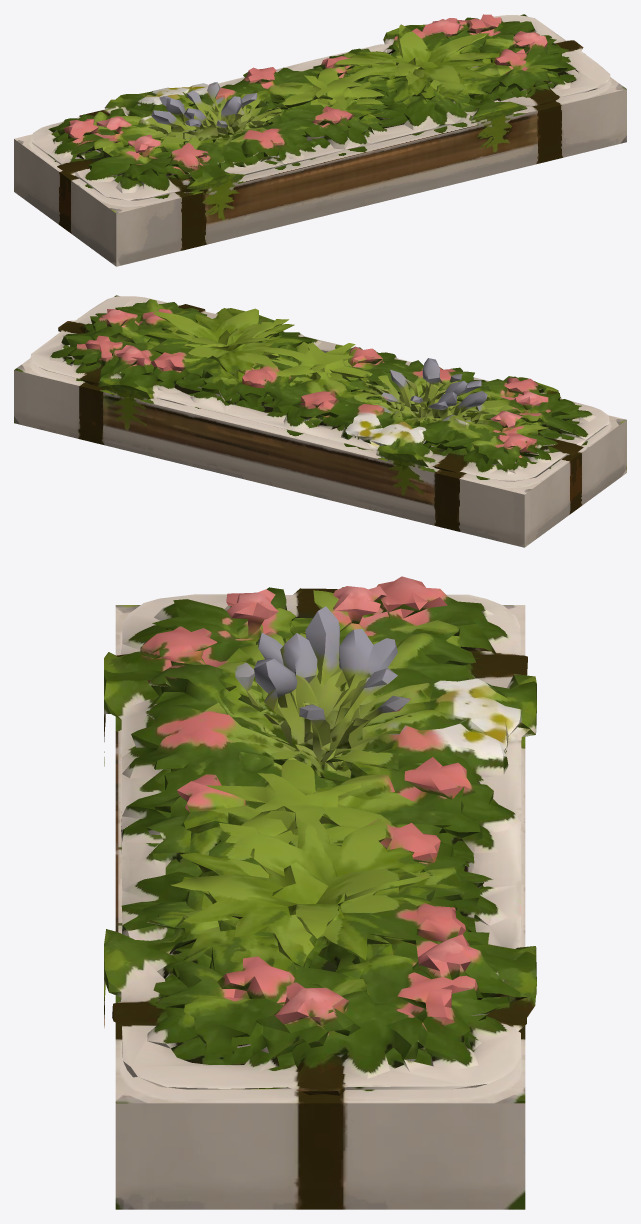
The model's file is flowerbed.glb.
The picture shows the model from 3 angles, top to bottom: view 1: azimuth 30°, elevation 25°; view 2: azimuth 150°, elevation 25°; view 3: azimuth 270°, elevation 25°; orthographic projection. The views are drawn at different scales.
Visible parts, largest first — view 1: body; view 2: body; view 3: body.
Boxes of the visible parts, x1=… form: body: x1=14, y1=14, x2=626, y2=266; body: x1=14, y1=295, x2=626, y2=547; body: x1=104, y1=576, x2=536, y2=1209.
Size of the model in its own units: 3.05 by 0.5831 by 1.11.
1 material, 1 textured.
